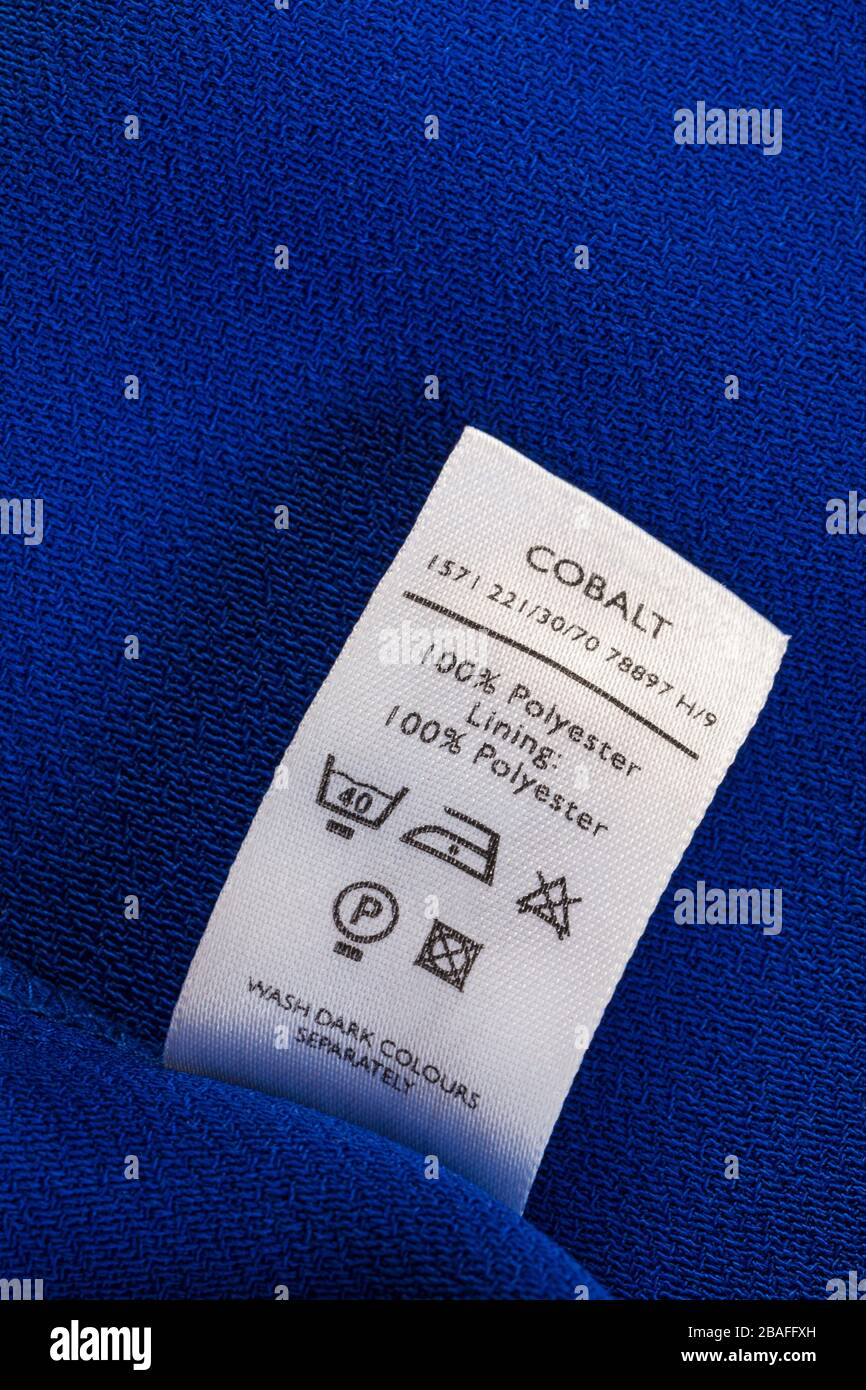ER_dry_clean_chemical_mild: (321, 869, 405, 968)
ER_iron_low_temp: (400, 791, 502, 891)
ER_no_bleach: (507, 867, 589, 943)
ER_no_tumble_dry: (403, 906, 492, 1001)
ER_wash_40_mild: (309, 748, 408, 844)
